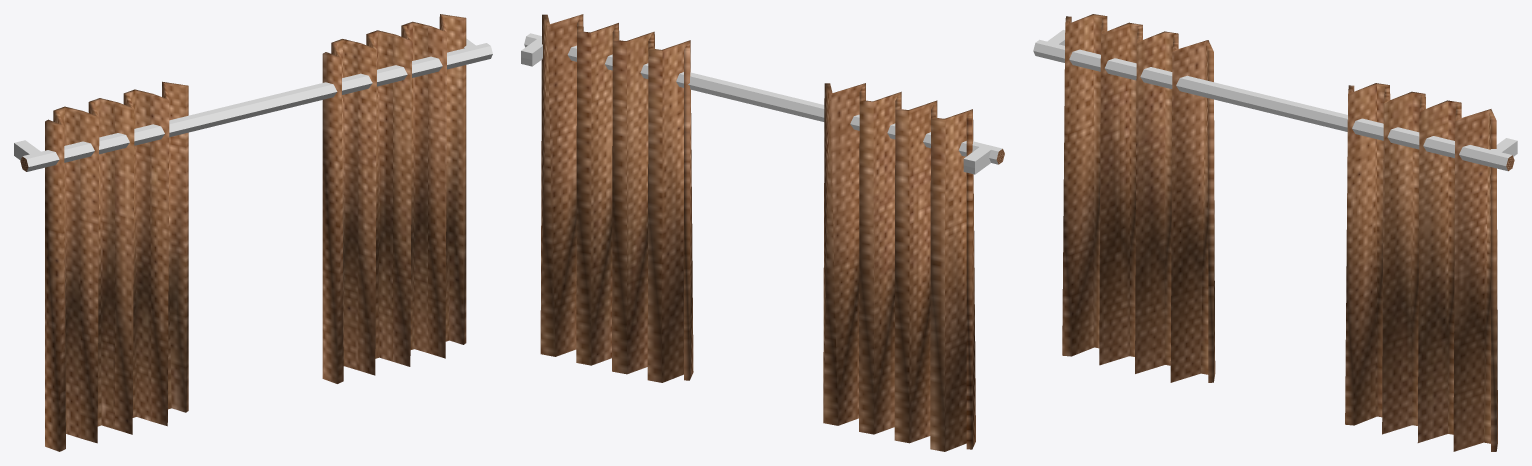
File: CurtainOpen.fbx
3 views of the same model, side by side, from view 1: azimuth 30°, elevation 25°; view 2: azimuth 150°, elevation 25°; view 3: azimuth 330°, elevation 25° (orthographic).
Parts seen in each view (by area): view 1: Cortina_abierta.004; view 2: Cortina_abierta.004; view 3: Cortina_abierta.004.
Boxes of the visible parts, <box> form: Cortina_abierta.004: <box>14,14,492,451</box>; Cortina_abierta.004: <box>521,14,1004,451</box>; Cortina_abierta.004: <box>1033,14,1517,451</box>.
Bounding box in the file's own units: 4.8 × 0.4321 × 3.21.
